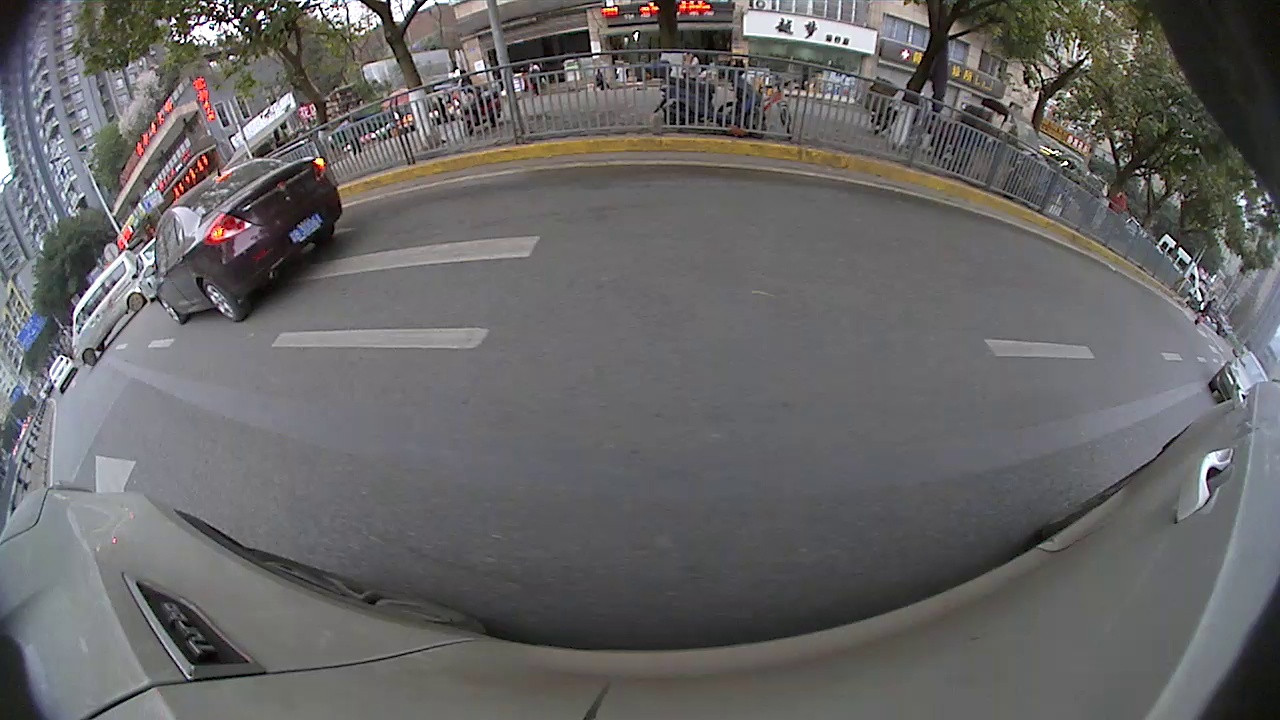car: (152, 154, 353, 328), (68, 245, 154, 371), (1207, 344, 1272, 408), (129, 238, 168, 310)
front: (158, 300, 187, 325), (80, 349, 100, 367)
rear: (198, 280, 244, 327), (126, 292, 147, 313)
rider: (650, 56, 772, 141)
